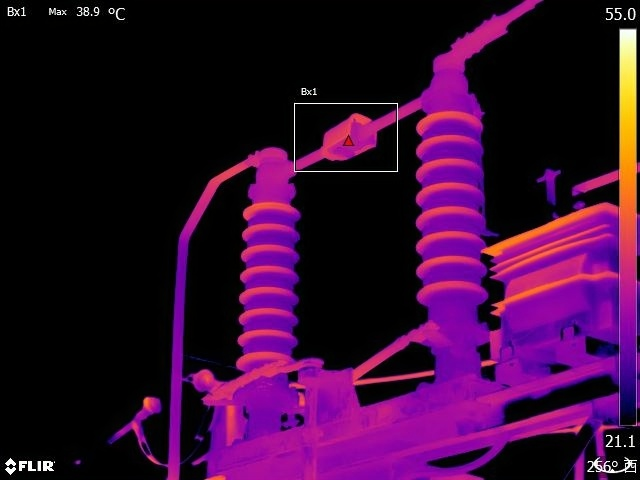post insulator: (411, 116, 504, 331), (237, 189, 305, 371)
switch: (243, 54, 482, 199)
